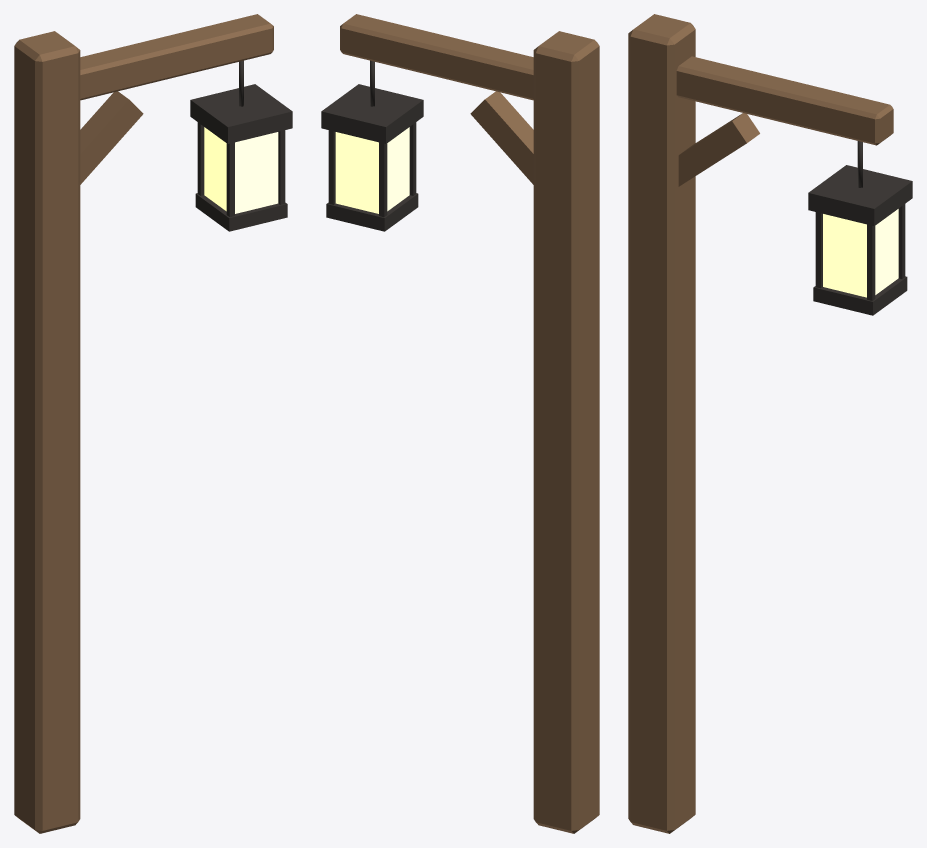
Rendered from lamp_post.glb.
3 renders of one model, left to right at view 1: azimuth 30°, elevation 25°; view 2: azimuth 150°, elevation 25°; view 3: azimuth 330°, elevation 25°, orthographic. The views are drawn at different scales.
Parts seen in each view (by area): view 1: lamp_post; view 2: lamp_post; view 3: lamp_post.
Part boxes in pixels (<box>): lamp_post: <box>14,14,292,833</box>; lamp_post: <box>321,14,599,833</box>; lamp_post: <box>628,14,912,833</box>.
Size of what is drawn, in the model's own units: 0.77 by 2.3 by 0.2.
